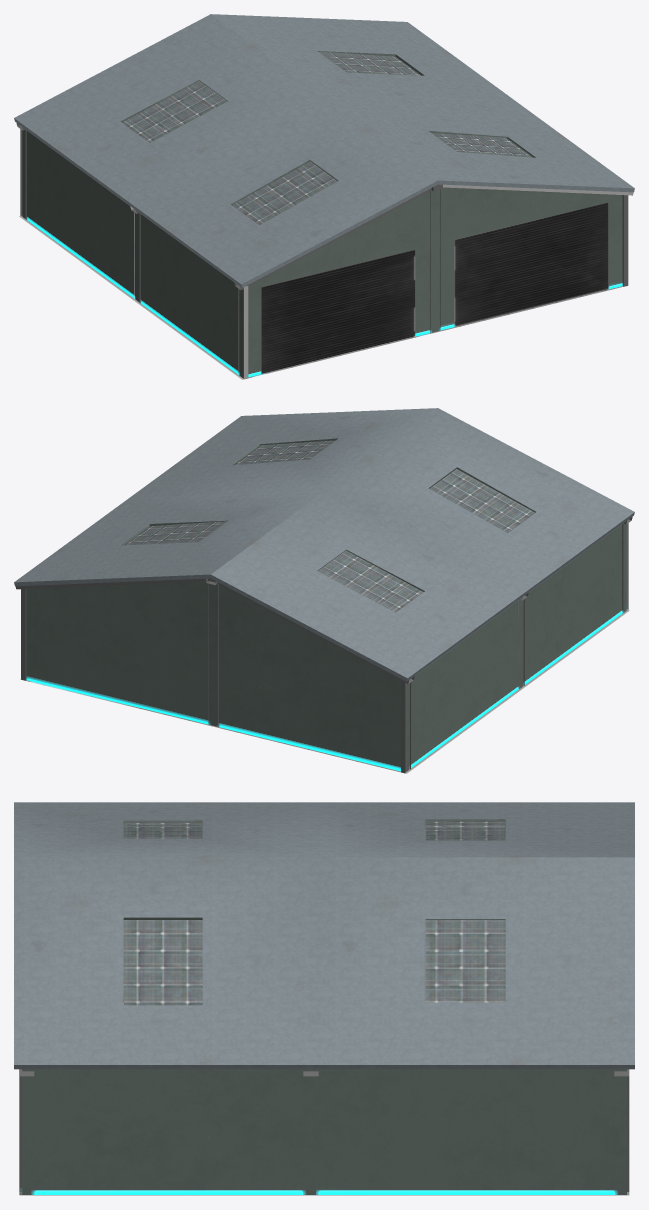
Rendered from Estructura_Principal.fbx.
3 views of the same model, one above another, from view 1: azimuth 30°, elevation 25°; view 2: azimuth 150°, elevation 25°; view 3: azimuth 270°, elevation 25° (orthographic). The views are drawn at different scales.
Parts seen in each view (by area): view 1: EstructuraPrincipal, Piso; view 2: EstructuraPrincipal, Piso; view 3: EstructuraPrincipal, Piso.
Boxes of the visible parts, box(x1,y1,x2,y2) form: EstructuraPrincipal: box(14, 14, 634, 379); Piso: box(19, 207, 623, 379); EstructuraPrincipal: box(14, 408, 634, 773); Piso: box(20, 610, 629, 773); EstructuraPrincipal: box(14, 802, 634, 1194); Piso: box(19, 1192, 629, 1195).
Bounding box in the file's own units: 1466 × 577 × 1464.
